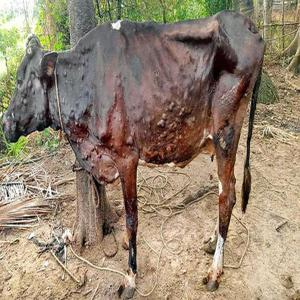lumpy skin diesease: (0, 9, 266, 298), (276, 0, 299, 77)
